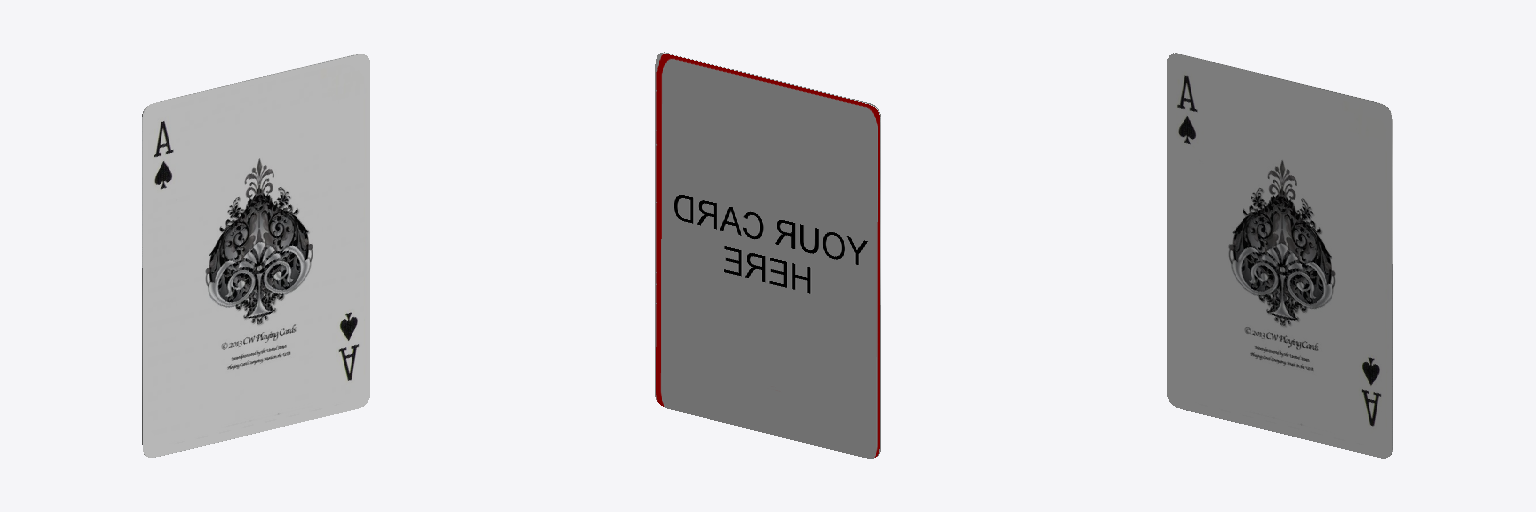
3 renders of one model, left to right at view 1: azimuth 30°, elevation 25°; view 2: azimuth 150°, elevation 25°; view 3: azimuth 330°, elevation 25°, orthographic.
Parts seen in each view (by area): view 1: Object_6, Object_12; view 2: Object_12; view 3: Object_6, Object_12.
Part boxes in pixels (x1,y1,x2,y2): Object_6: (143, 54, 369, 457); Object_12: (142, 54, 357, 457); Object_12: (655, 53, 880, 458); Object_6: (1167, 53, 1391, 458); Object_12: (1177, 53, 1392, 454).
Bounding box in the file's own units: 0.4634 × 0.6939 × 0.0067.
Materials: 2 (2 with a texture image).